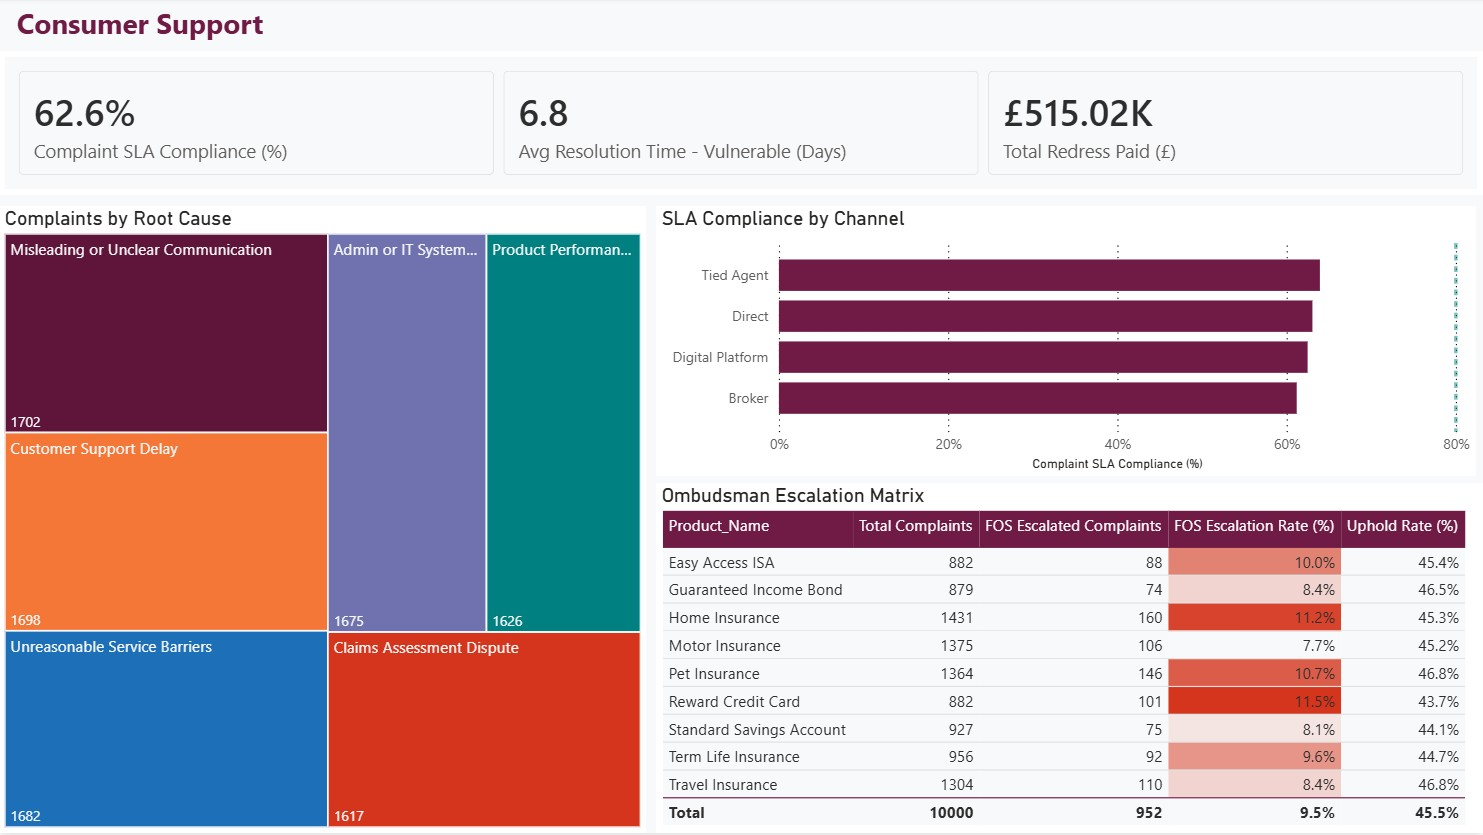

What the dashboard file says about the page in this screenshot:
{"tool":"powerbi","page":{"name":"Consumer Support","canvas":[1280,720],"ordinal":2},"visuals":[{"type":"textbox","box":[10.4,0,230.3,45.7],"z":0},{"type":"cardVisual","fields":{"Data":["_Measures.Complaint SLA Compliance (%)","_Measures.Avg Resolution Time - Vulnerable (Days)","_Measures.Total Redress Paid (£)"]},"box":[0,45.7,1280,124.2],"z":1000},{"type":"treemap","title":"Complaints by Root Cause ","fields":{"Group":["fact_complaints.complaint_category"],"Values":["_Measures.Total Complaints"]},"box":[0,179,558.3,540.8],"z":2000},{"type":"clusteredBarChart","title":"SLA Compliance by Channel ","fields":{"Category":["dim_product.distribution_channel"],"Y":["_Measures.Complaint SLA Compliance (%)"]},"box":[566.6,179,706.9,232.6],"z":3000},{"type":"tableEx","title":"Ombudsman Escalation Matrix ","fields":{"Values":["dim_product.Product_Name","_Measures.Total Complaints","_Measures.FOS Escalated Complaints","_Measures.FOS Escalation Rate (%)","_Measures.Uphold Rate (%)"]},"box":[566.6,418.1,713.4,301.8],"z":4000}]}

Visuals, with their boxes in screenshot pixels (x1, y1, x2, y2), scaled from the page's 1280x720 canvas onto the 1483x835 screenshot:
textbox: select_region(12, 0, 279, 53)
cardVisual - _Measures.Complaint SLA Compliance (%) x _Measures.Avg Resolution Time - Vulnerable (Days): select_region(0, 53, 1482, 197)
"Complaints by Root Cause " treemap: select_region(0, 208, 647, 834)
"SLA Compliance by Channel " clusteredBarChart: select_region(656, 208, 1475, 477)
"Ombudsman Escalation Matrix " tableEx: select_region(656, 485, 1482, 834)
